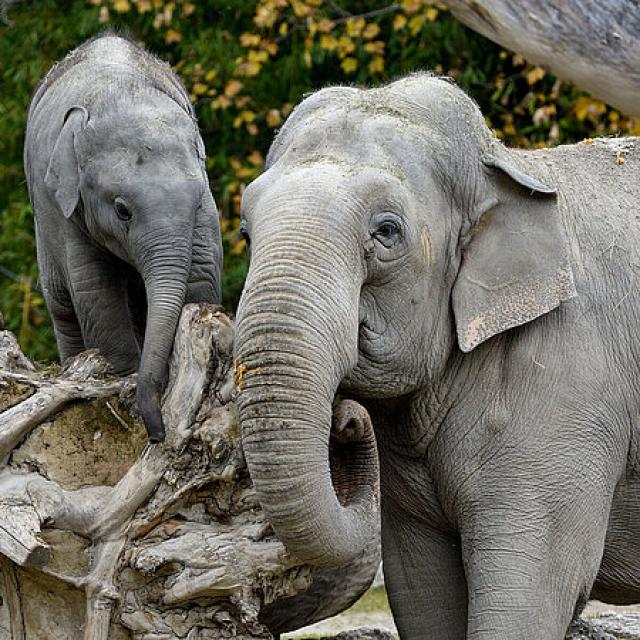Elephant: (237, 72, 640, 632), (13, 27, 234, 448)
